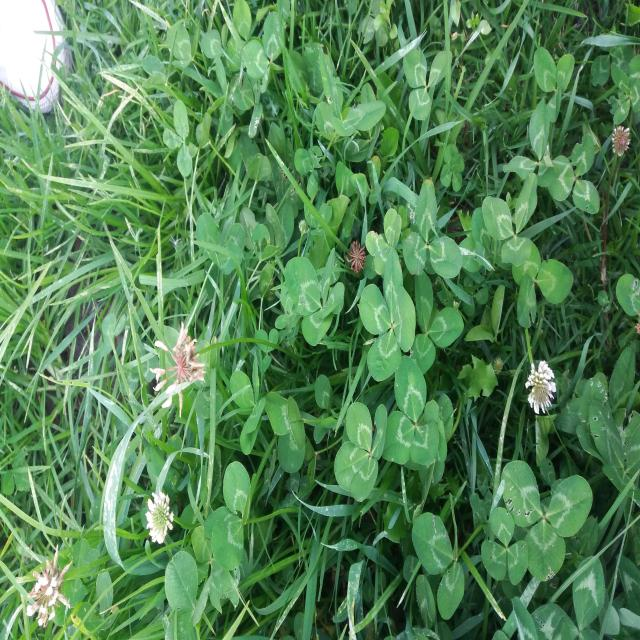Four Leaf Clover: (359, 248, 416, 381), (284, 247, 345, 347), (333, 402, 388, 501)
